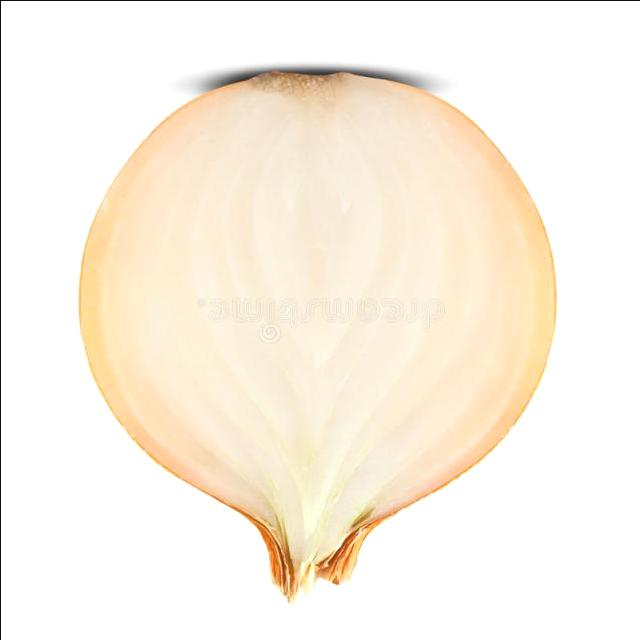onion: (77, 68, 561, 598)
